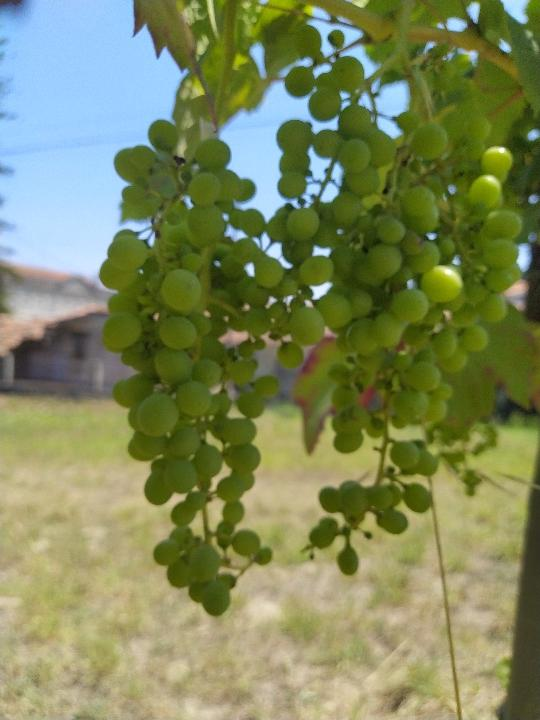grape: (266, 26, 523, 583), (97, 116, 285, 618)
